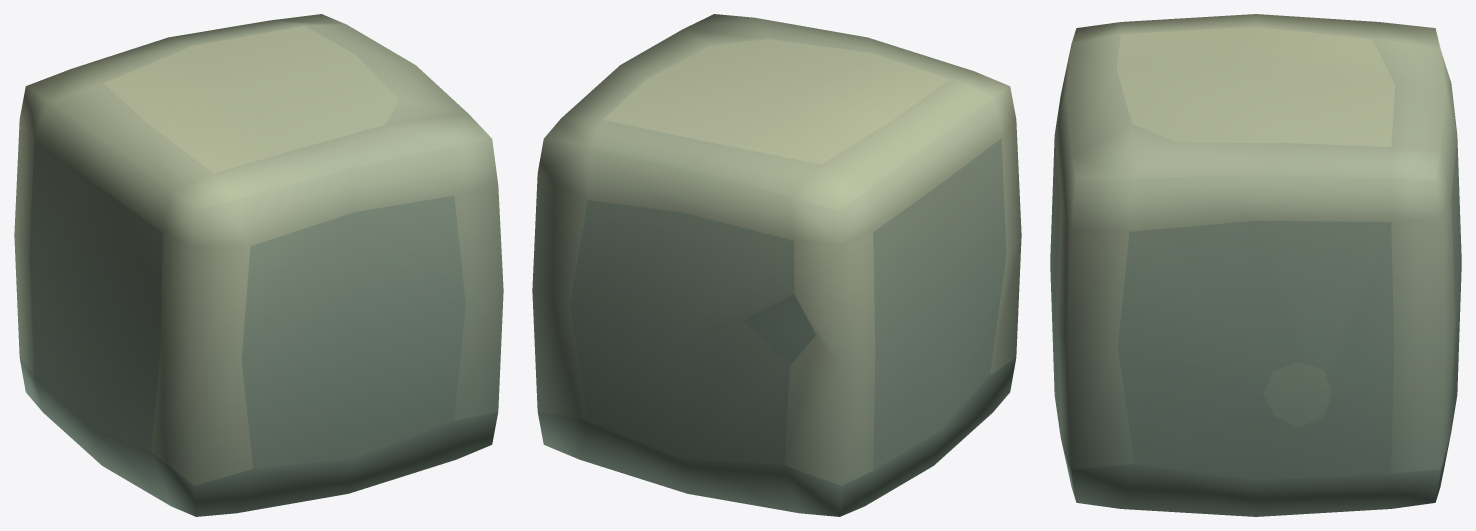
File: block_stone1_1_half_LOD_group.fbx
The picture shows the model from 3 angles, left to right: view 1: azimuth 30°, elevation 25°; view 2: azimuth 150°, elevation 25°; view 3: azimuth 270°, elevation 25°; orthographic projection. The views are drawn at different scales.
Visible parts, largest first — view 1: block_stone1_1_half_LOD0; view 2: block_stone1_1_half_LOD0; view 3: block_stone1_1_half_LOD0.
Boxes of the visible parts, bbox=[...] form: block_stone1_1_half_LOD0: bbox=[14, 14, 503, 516]; block_stone1_1_half_LOD0: bbox=[532, 14, 1021, 516]; block_stone1_1_half_LOD0: bbox=[1050, 14, 1461, 516].
Size of what is drawn, in the model's own units: 58.17 by 58.3 by 58.29.
Materials: 1 (1 with a texture image).
